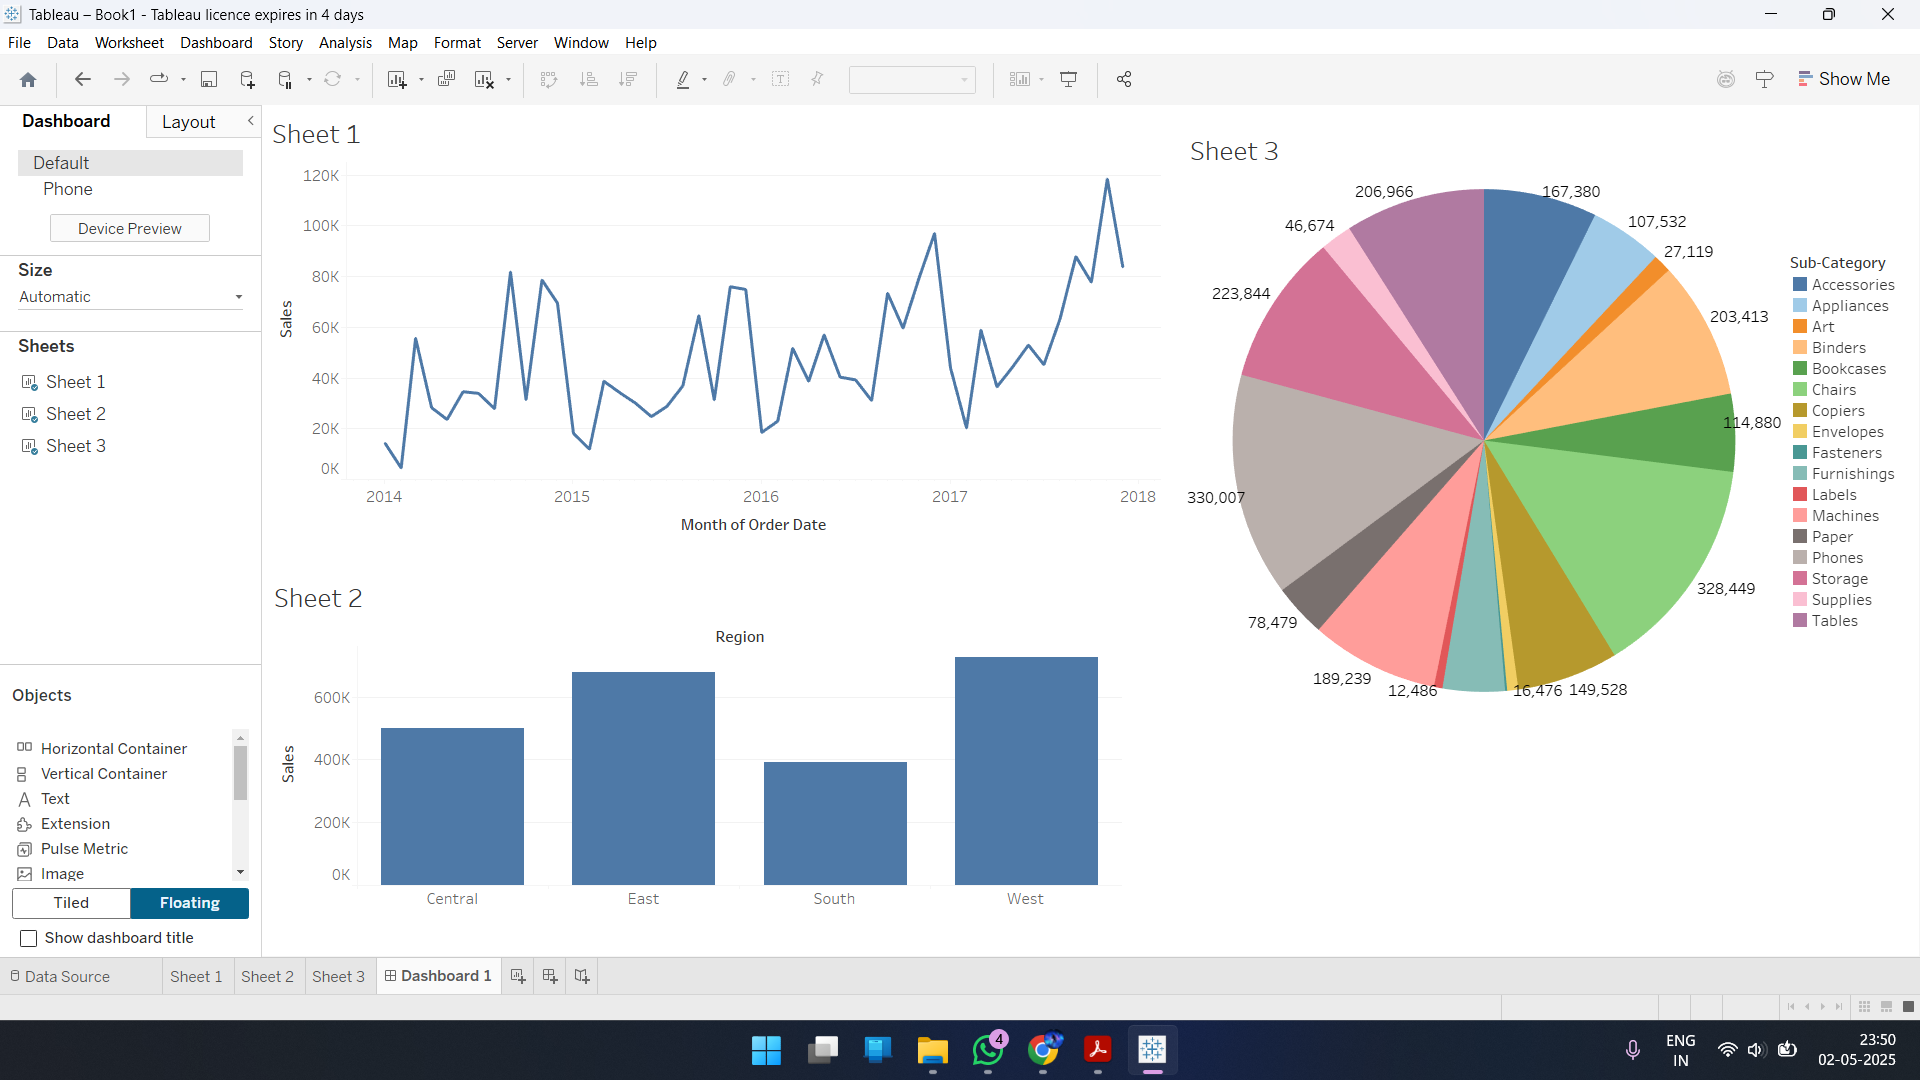

The page's visual inventory and layout, read from the dashboard file:
{"tool":"tableau","page":{"name":"Dashboard 1","canvas":[1000,1000],"units":"permille","ordinal":0},"visuals":[{"type":"worksheet","title":"Sheet 1","mark":"Automatic","rows":["Sales"],"cols":["Order Date"],"box":[3.6,8.2,538.9,505.3]},{"type":"worksheet","title":"Sheet 3","mark":"Pie","box":[557.6,28.2,376.6,706.2]},{"type":"worksheet","title":"Sheet 2","mark":"Automatic","rows":["Sales"],"cols":["Region"],"box":[4.8,553.5,514.2,392.5]}]}

Visuals, with their boxes on the dashboard's canvas, which has no fixed pixel size, in thousandths of its width and height (x1, y1, x2, y2). These are canvas units, not pixel positions in the 1920x1080 screenshot, which may show the page scaled, cropped or inside an application window:
"Sheet 1" worksheet: region(4, 8, 542, 514)
"Sheet 3" worksheet (Pie marks): region(558, 28, 934, 734)
"Sheet 2" worksheet: region(5, 554, 519, 946)
